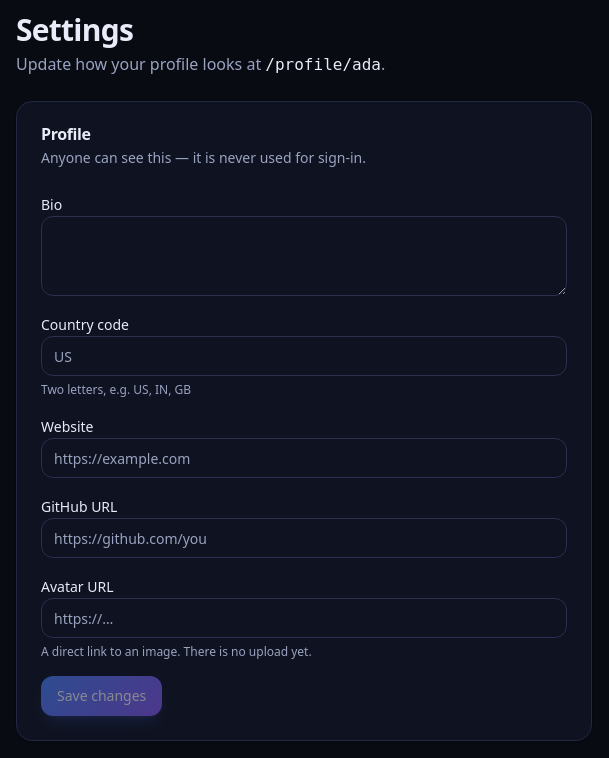
SettingsForm › saves, trimming blanks to null, updates the store and invalidates the profile caches
The image size is (609, 758).
Type "  Updated  " into the text box labelled "Bio" at (304, 256), box x1=41 y1=216 x2=567 y2=296
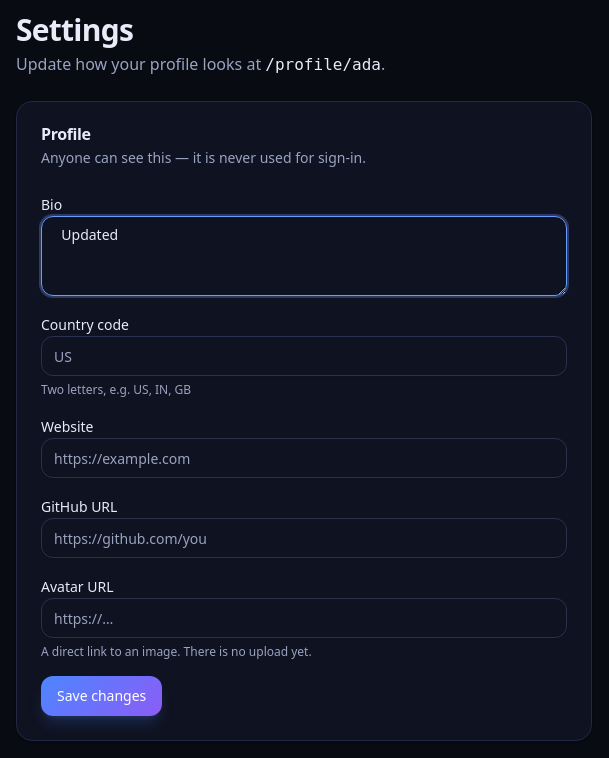
Click the button "Save changes" at (102, 696), box x1=41 y1=676 x2=162 y2=716
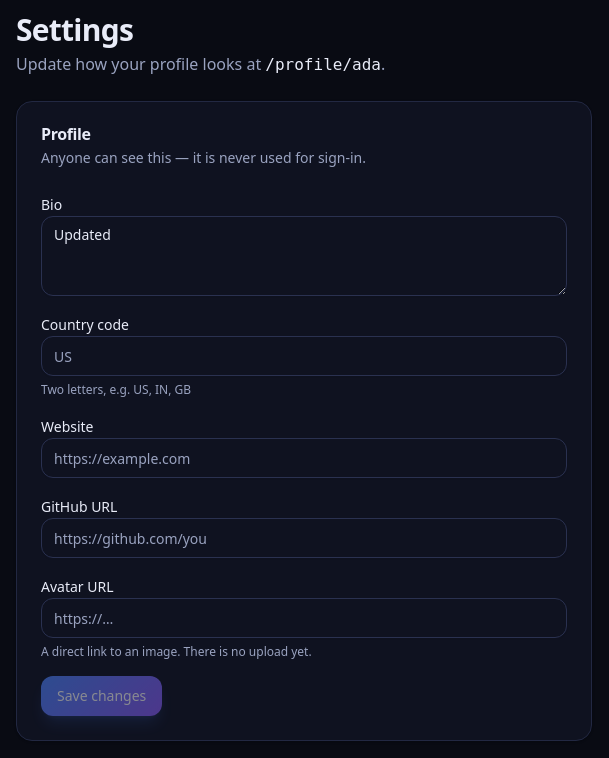
Expected: the button "Save changes" is disabled, x1=41 y1=676 x2=162 y2=716
